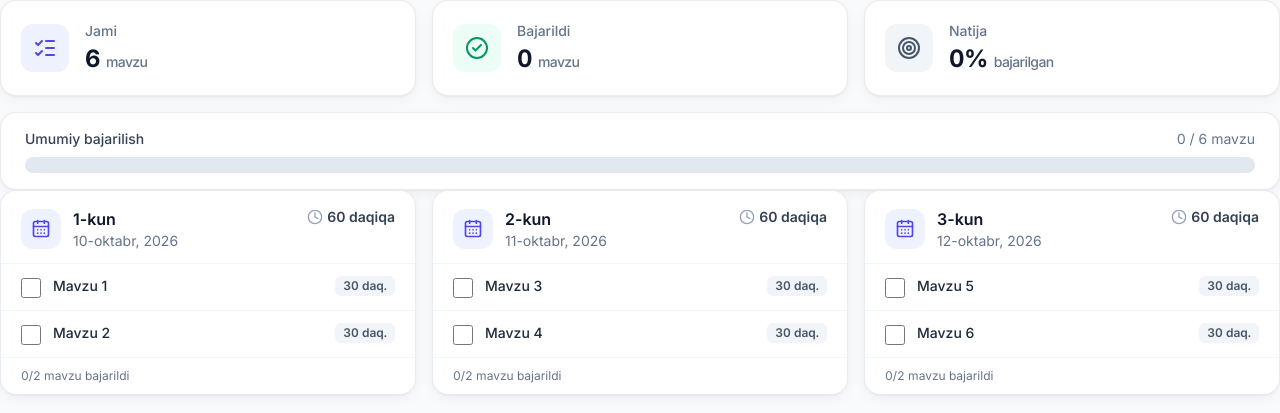
Test: ProgressSummary › updates live as checkboxes are toggled in DayCards
Expected: the text "0%" is shown, [949,43,988,75]
Click the checkbox labelled "Mavzu 1 30 daq.": (31, 288) [21,278,41,298]
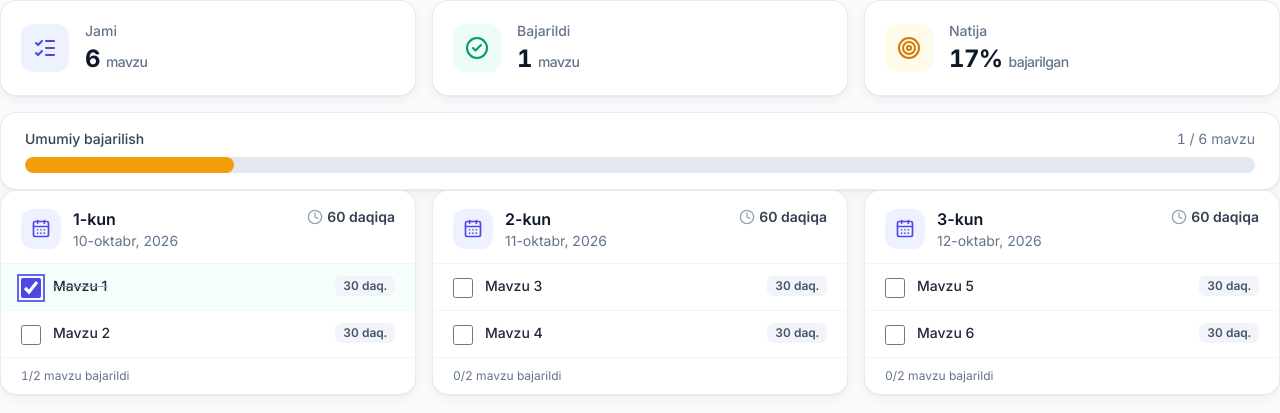
Click the checkbox labelled "Mavzu 4 30 daq.": (463, 335) [453,325,473,345]
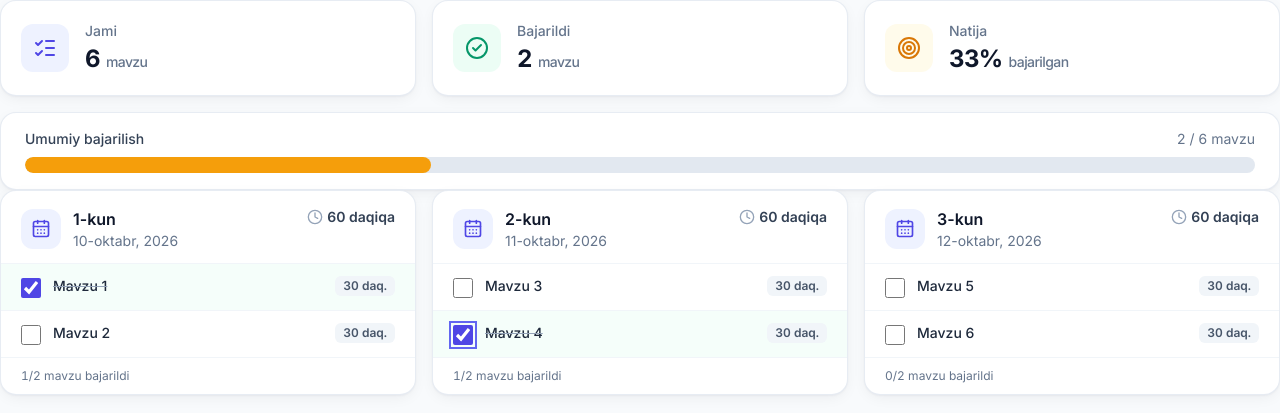
Click the checkbox labelled "Mavzu 6 30 daq.": (895, 335) [885,325,905,345]
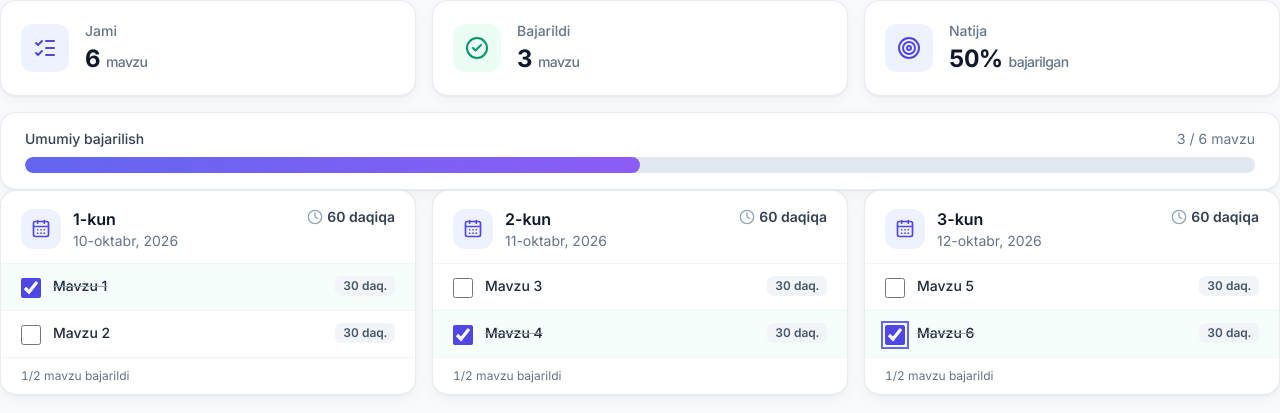
Result: the text "50%" is shown at [949,43,1003,75]
Click the checkbox labelled "Mavzu 6 30 daq.": (895, 335) [885,325,905,345]
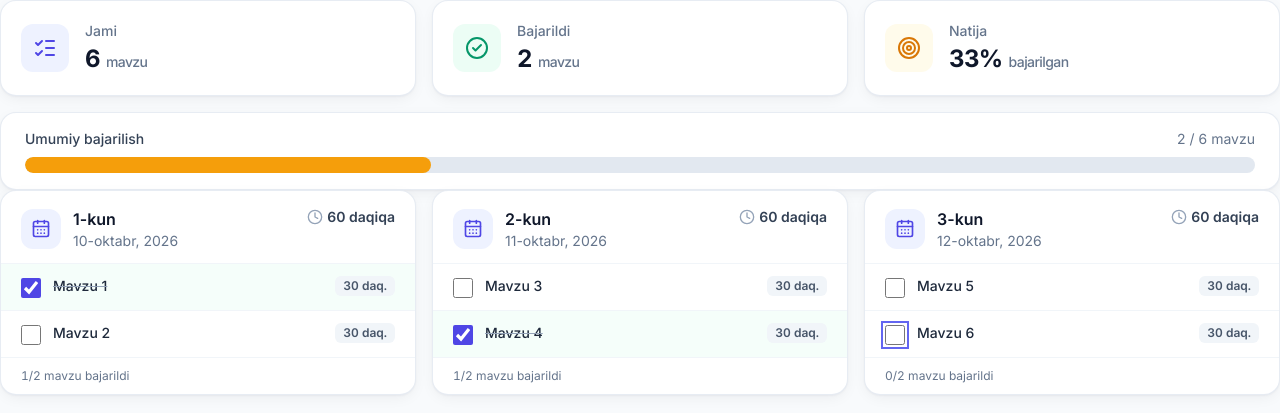
Result: the text "33%" is shown at [949,43,1003,75]
